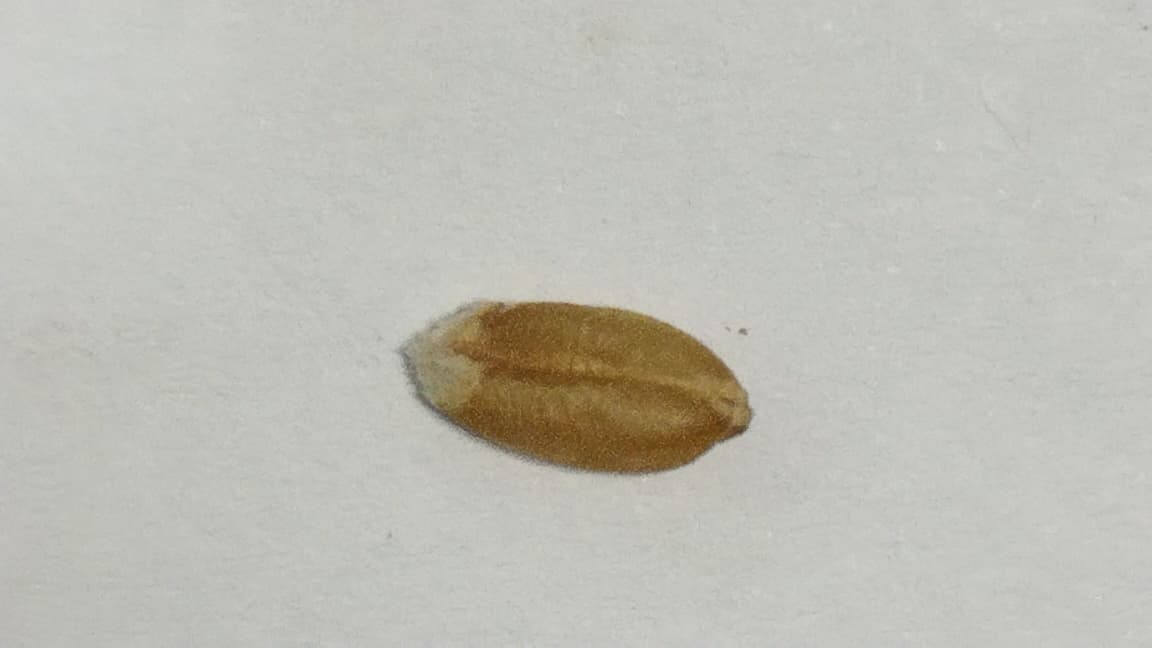healthy: (406, 301, 751, 473)
